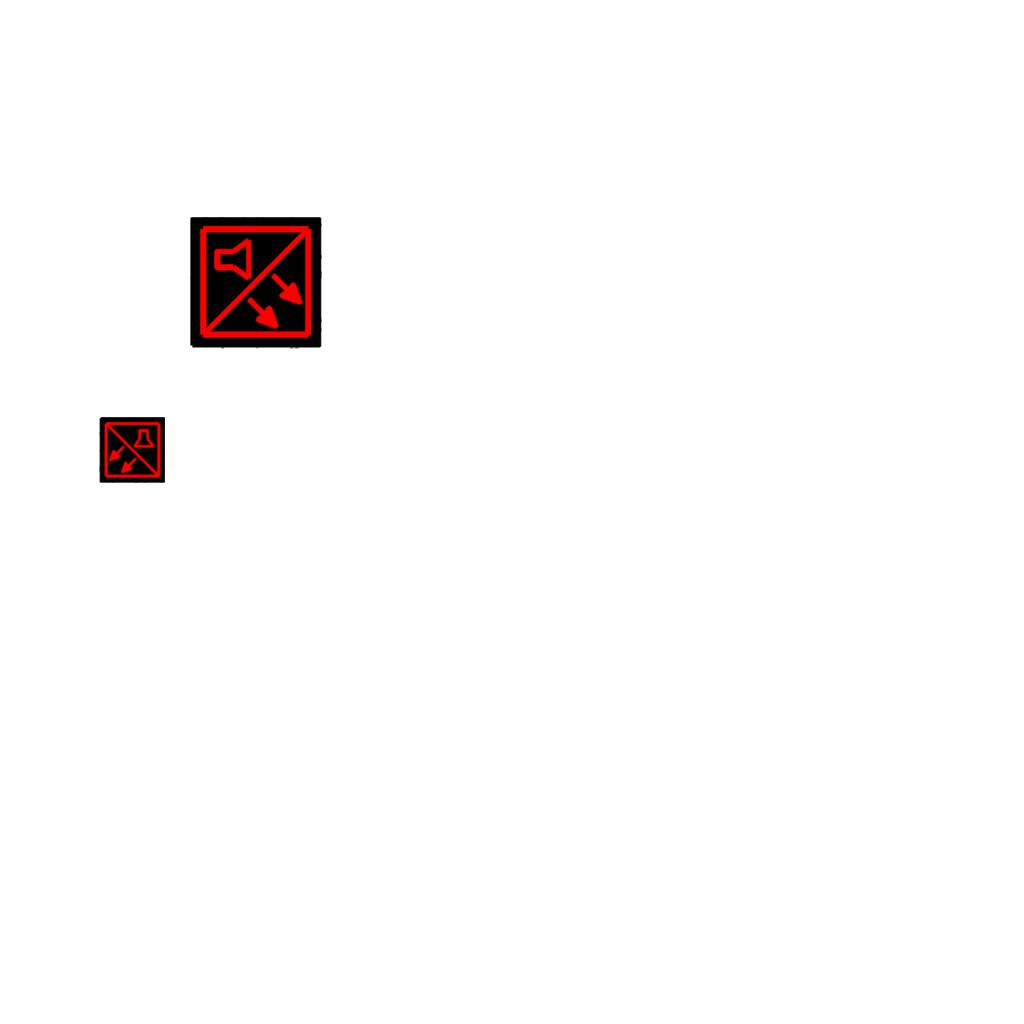OKW_Multisensormelder_(Kombination_optischer_Rauch-Kahlenmonoxid_Waerme-Melder): (190, 217, 322, 349), (99, 417, 165, 483)
